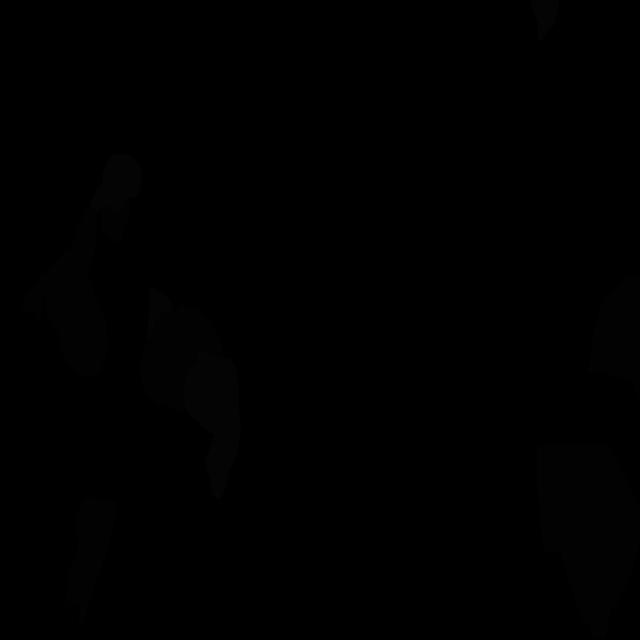cardboard: (536, 443, 640, 639), (139, 303, 225, 414), (46, 247, 109, 378), (64, 496, 117, 629), (587, 272, 640, 402), (69, 203, 98, 273), (20, 269, 48, 325), (100, 197, 130, 242)
soft_plastic: (184, 349, 241, 499), (90, 153, 142, 212), (146, 286, 173, 339), (531, 0, 559, 42)
